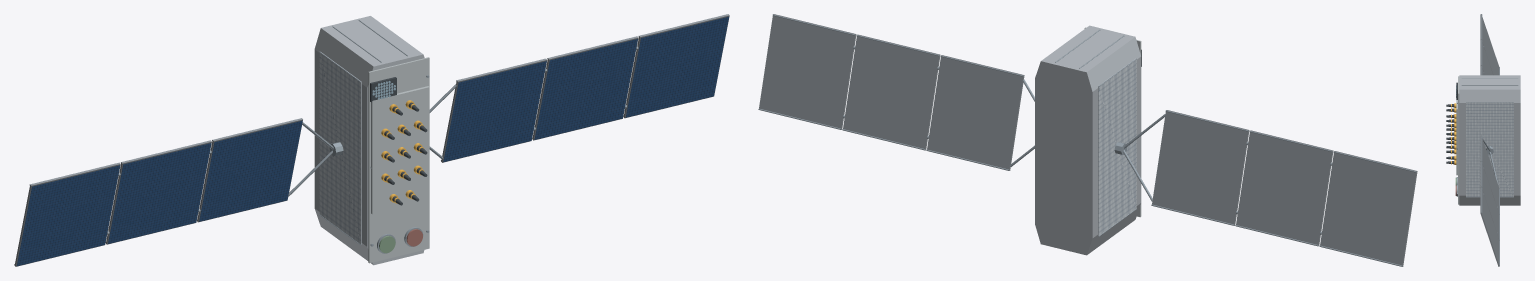
Rendered from beidou-3-secm-b-2024.glb.
3 renders of one model, left to right at view 1: azimuth 30°, elevation 25°; view 2: azimuth 150°, elevation 25°; view 3: azimuth 270°, elevation 25°, orthographic. The views are drawn at different scales.
Parts seen in each view (by area): view 1: Solar cell strings (×6), Equipment bus, Optical solar reflector tiles, Navigation antenna mounting plate, Earth-facing equipment deck, Solar leaf backsheet (×6); view 2: Solar leaf backsheet (×6), Equipment bus, Optical solar reflector tiles; view 3: Optical solar reflector tiles, Equipment bus, Solar leaf backsheet (×5), Earth-facing equipment deck, Navigation antenna mounting plate, Solar wing yoke, Blanket taped seam.
Part boxes in pixels (bbox=[...]): Solar cell strings (×6): bbox=[16, 16, 728, 266]; Equipment bus: bbox=[314, 16, 424, 265]; Optical solar reflector tiles: bbox=[319, 52, 361, 244]; Navigation antenna mounting plate: bbox=[371, 86, 429, 214]; Earth-facing equipment deck: bbox=[368, 57, 429, 263]; Solar leaf backsheet (×6): bbox=[14, 14, 729, 266]; Solar leaf backsheet (×6): bbox=[759, 14, 1417, 266]; Equipment bus: bbox=[1035, 25, 1141, 255]; Optical solar reflector tiles: bbox=[1098, 58, 1136, 236]; Optical solar reflector tiles: bbox=[1466, 102, 1513, 196]; Equipment bus: bbox=[1459, 75, 1520, 205]; Solar leaf backsheet (×5): bbox=[1480, 14, 1499, 266]; Earth-facing equipment deck: bbox=[1458, 76, 1459, 204]; Navigation antenna mounting plate: bbox=[1456, 100, 1457, 175]; Solar wing yoke: bbox=[1489, 152, 1498, 185]; Blanket taped seam: bbox=[1461, 85, 1518, 85].
Bounding box in the file's own units: 10.3 × 2.82 × 1.63.
Materials: 11 (2 with a texture image).
